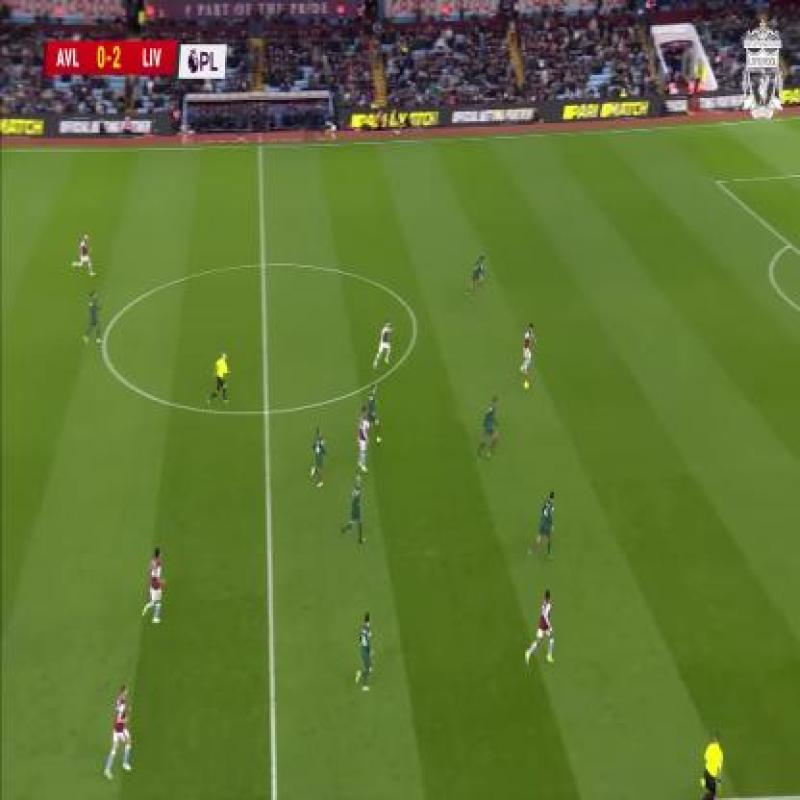10: (779, 223, 800, 262)
13: (248, 123, 275, 169)
14: (248, 248, 281, 290)
15: (248, 388, 281, 436)
9: (710, 161, 728, 202)
c: (88, 323, 124, 363), (399, 308, 435, 348)
